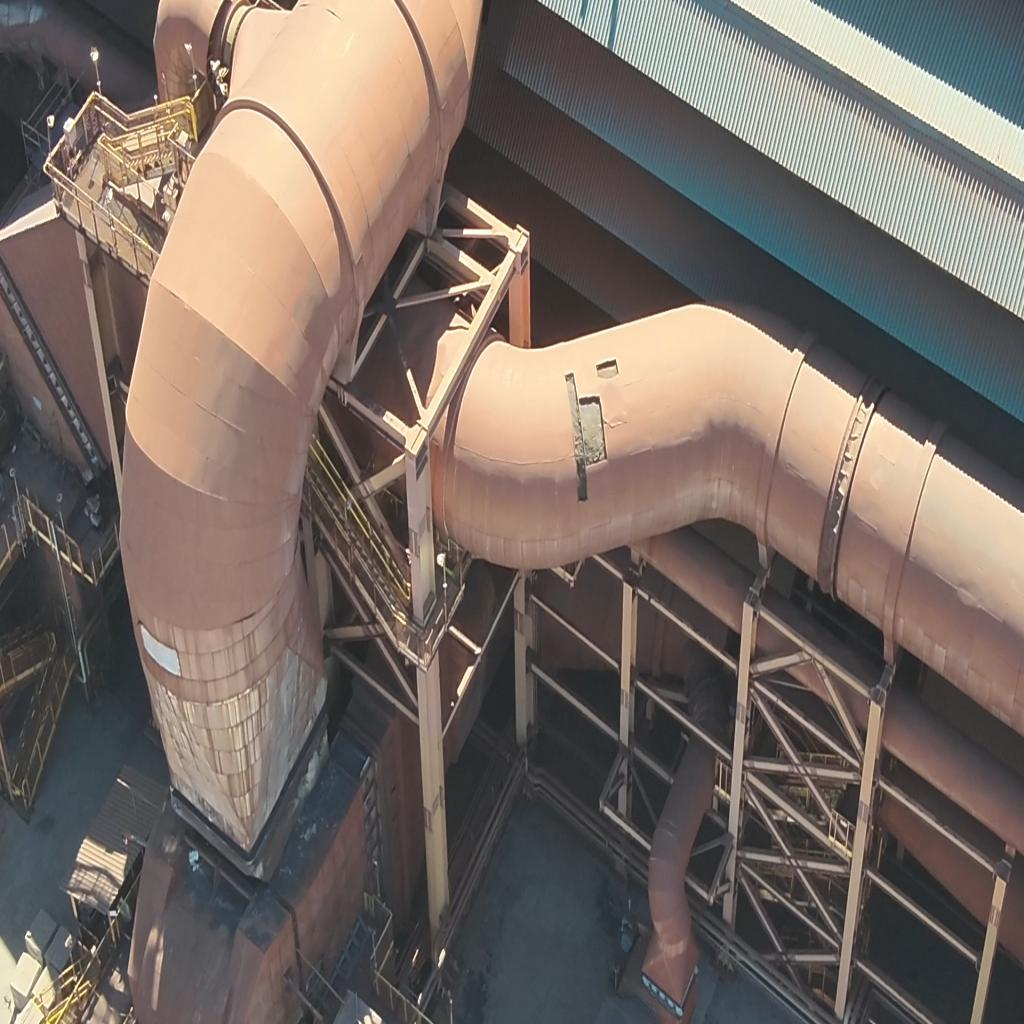Failures: (564, 368, 610, 498), (593, 345, 622, 387)
